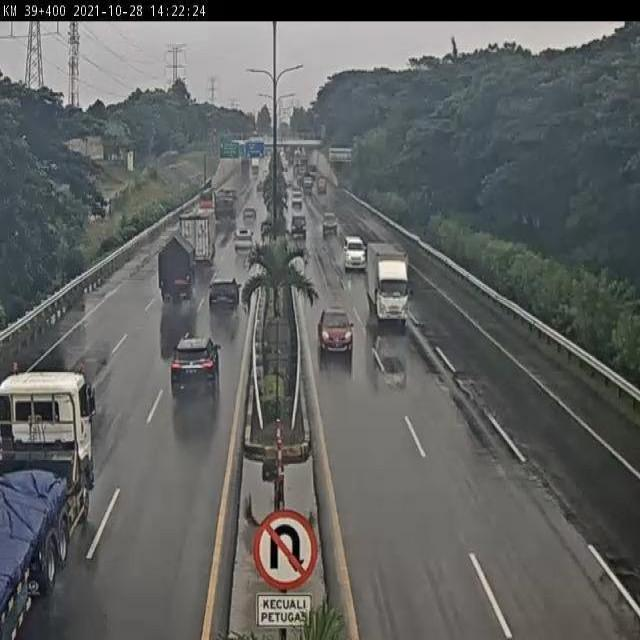car: (167, 334, 220, 406), (320, 304, 355, 351), (204, 277, 241, 319), (343, 236, 367, 271), (231, 227, 253, 256)
truck-l-: (174, 209, 218, 268)
truck-m-: (156, 235, 196, 302)
truck-s-: (363, 240, 409, 324)
truck-xl-: (0, 365, 97, 640)
